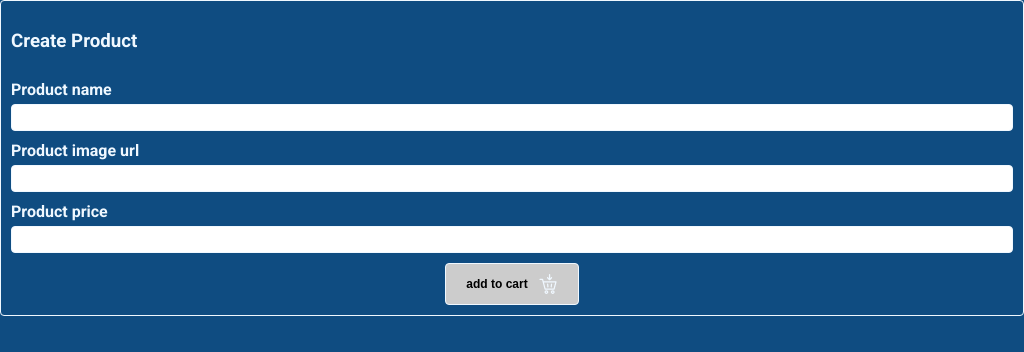
Test case: AddToCartForm › checks product price input valid
Type "44." into the number field labelled "Product price".
click(512, 240); type("44.")  # box [11, 226, 1013, 253]
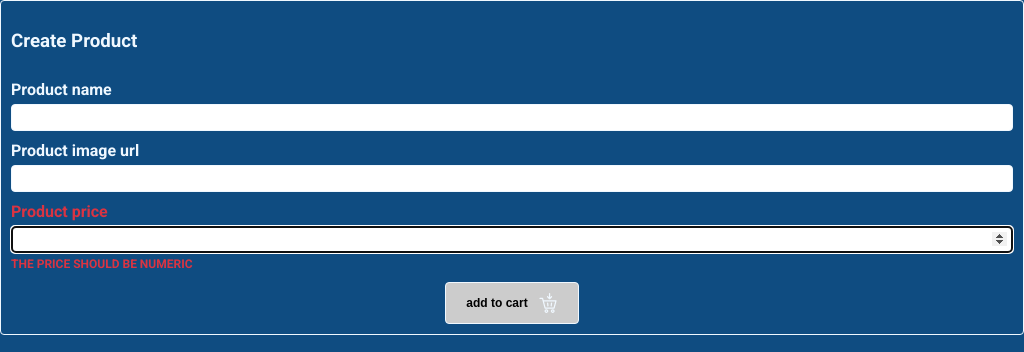
Now the text "The price should be numeric" is shown, box [11, 257, 192, 271]
Type "44.99" into the number field labelled "Product price".
click(512, 240); type("44.99")  # box [11, 226, 1013, 253]
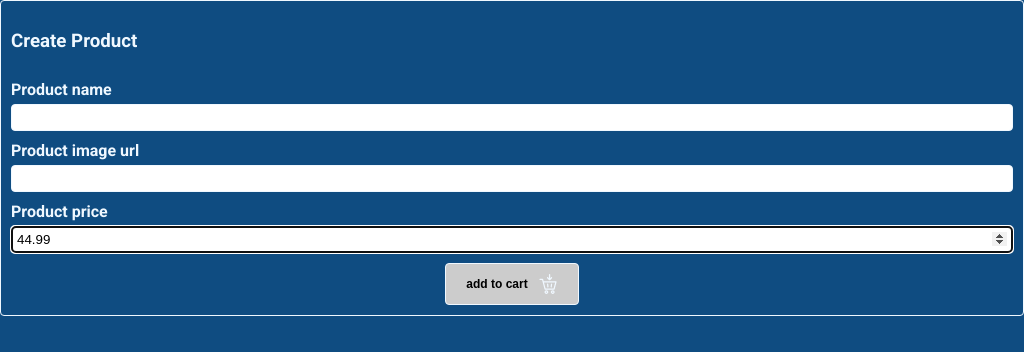
Now the text "The price should be numeric" is gone
